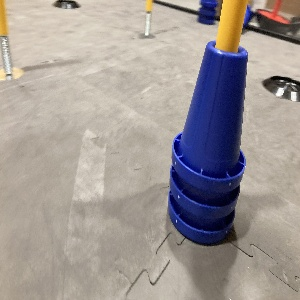Blue_3: (165, 39, 247, 250)
